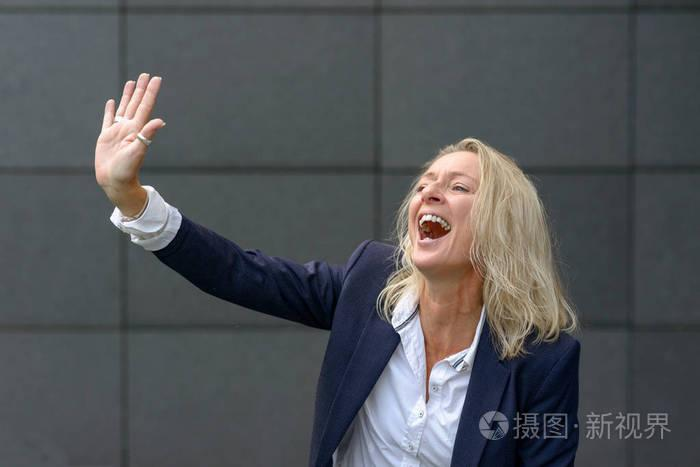no-phone: (90, 69, 169, 190)
